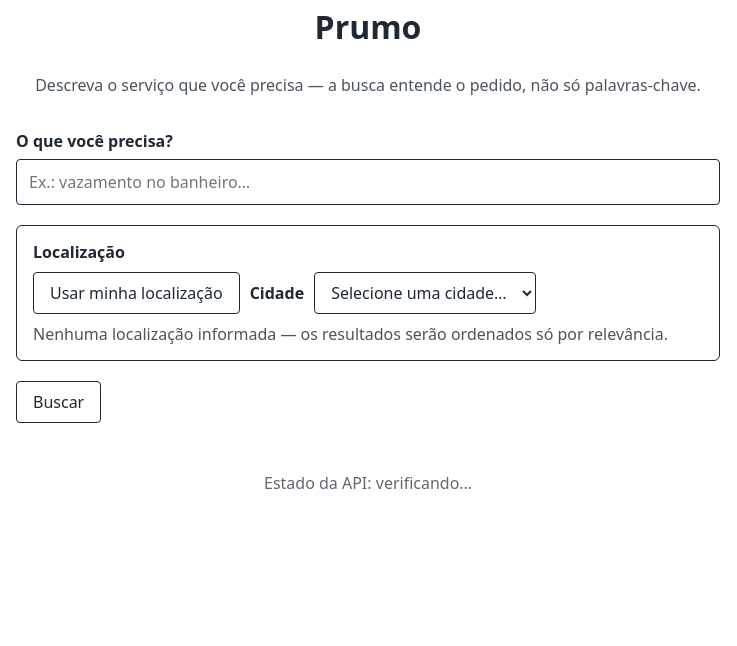
Test case: App — tela de busca › 502 (embedding_provider_error): aviso de erro com o detalhe devolvido pela API, sem segredo
Type "vazamento no banheiro" into the field labelled "O que você precisa?". click: (368, 182)
box: left=16, top=159, right=720, bottom=205
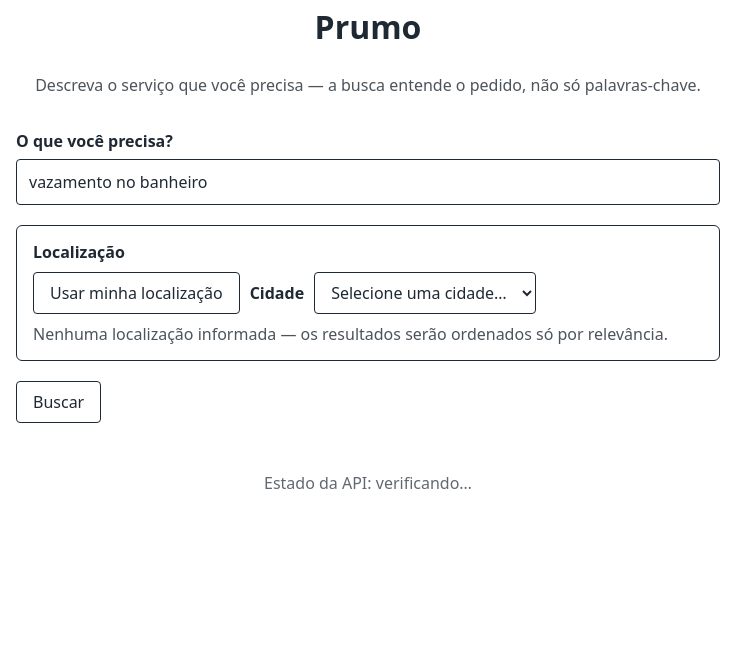
Click the button "Buscar". click: (59, 402)
box: left=16, top=381, right=101, bottom=423
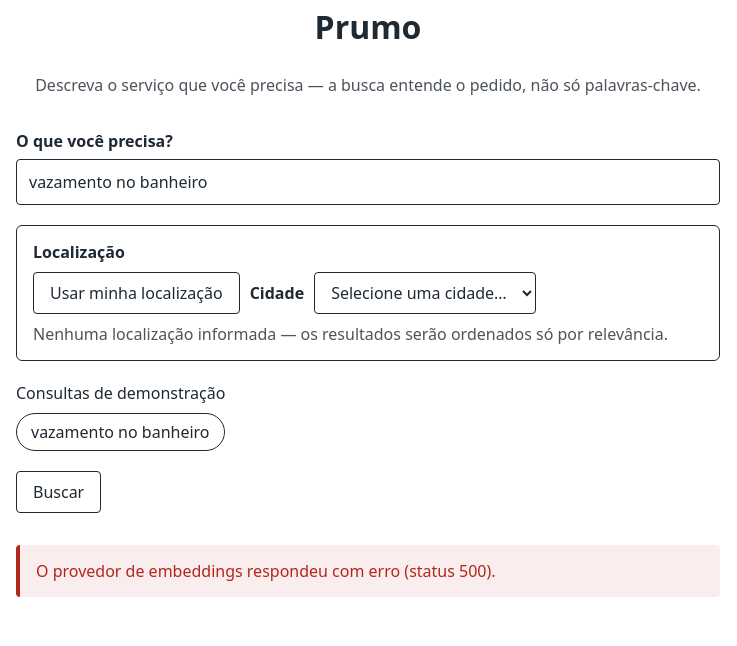
Expected: the text "O provedor de embeddings respondeu com erro (status 500)." is shown, left=16, top=545, right=720, bottom=597
